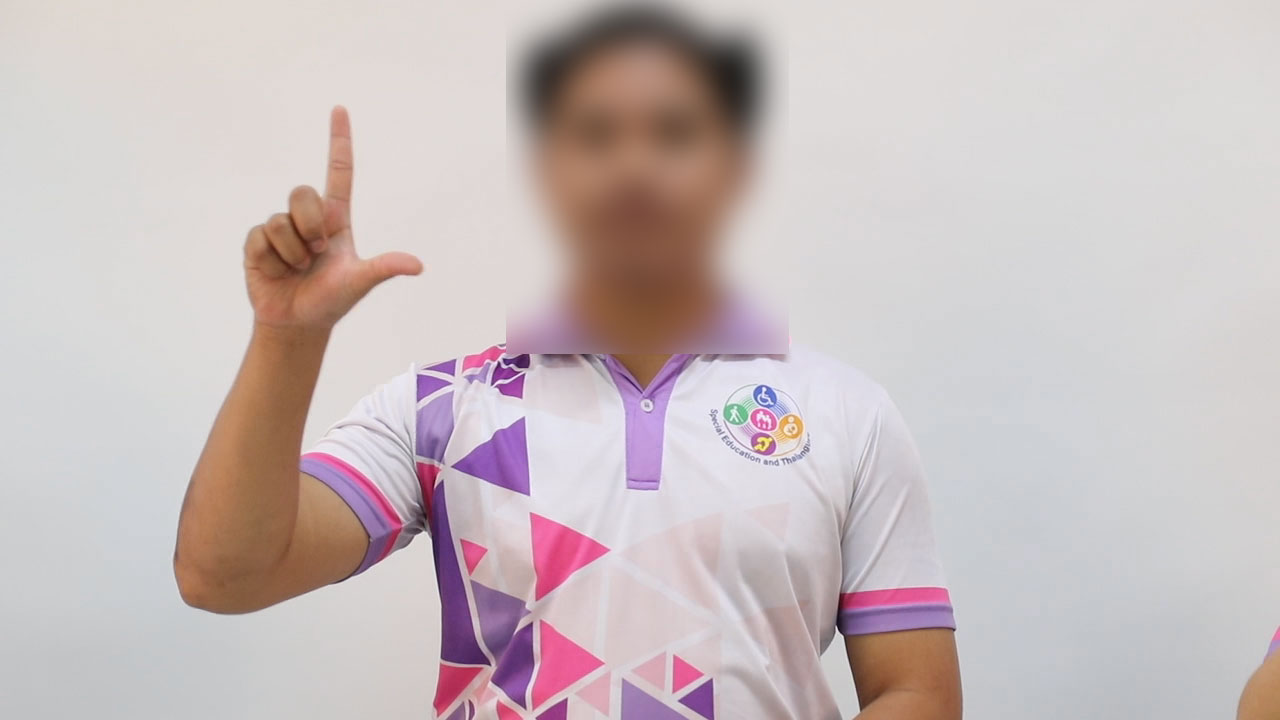lor: (225, 93, 438, 353)
